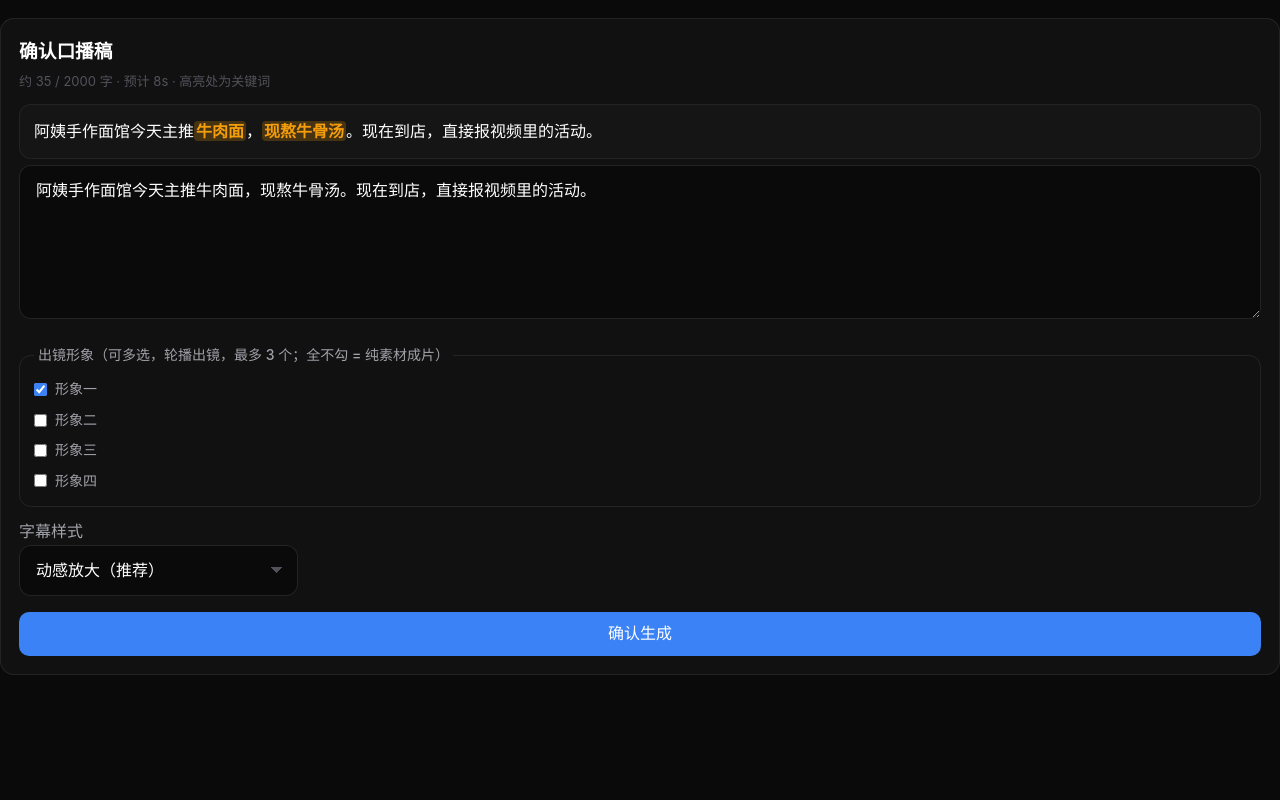
Test: ScriptConfirm › multiple avatars can be checked up to 3; the 4th checkbox stays disabled
Check: the checkbox labelled "形象一" is checked, box [34, 383, 47, 396]
Click the checkbox labelled "形象二" at (40, 420), box [34, 414, 47, 427]
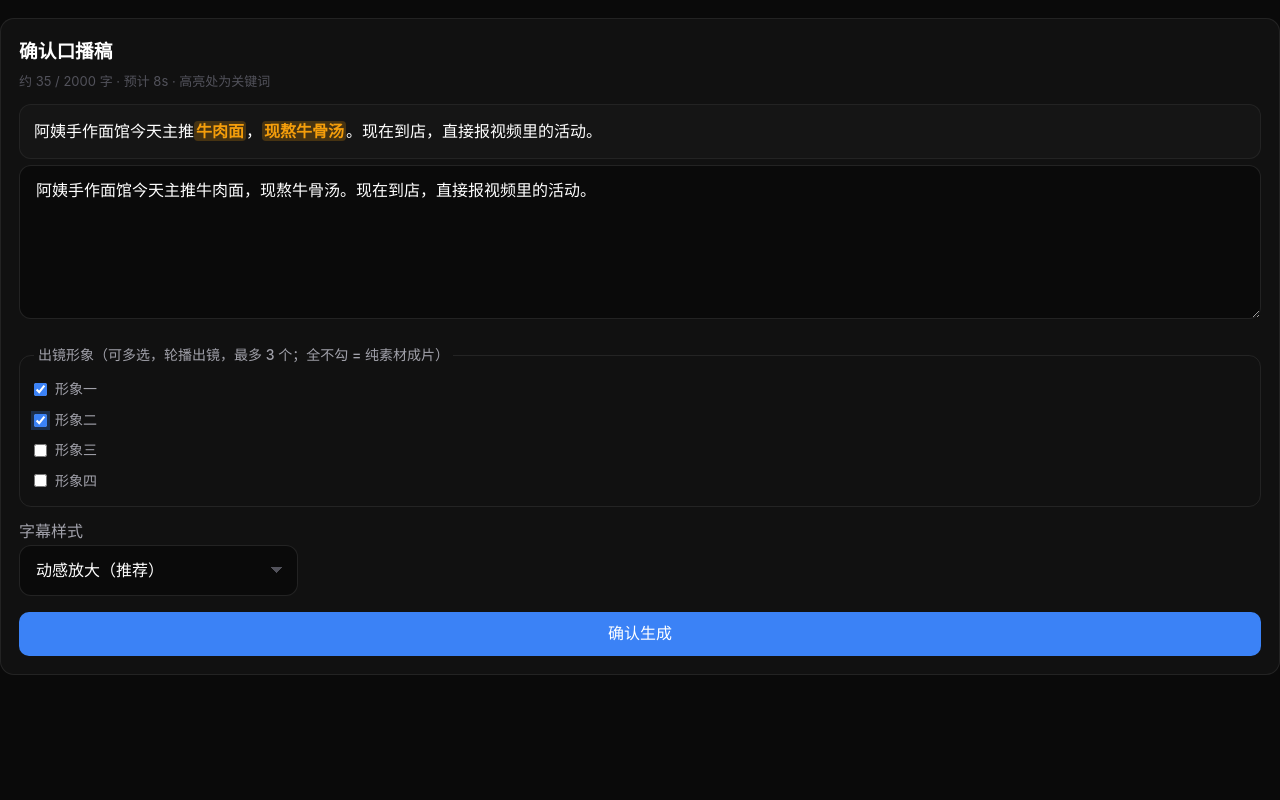
Click the checkbox labelled "形象三" at (40, 450), box [34, 444, 47, 457]
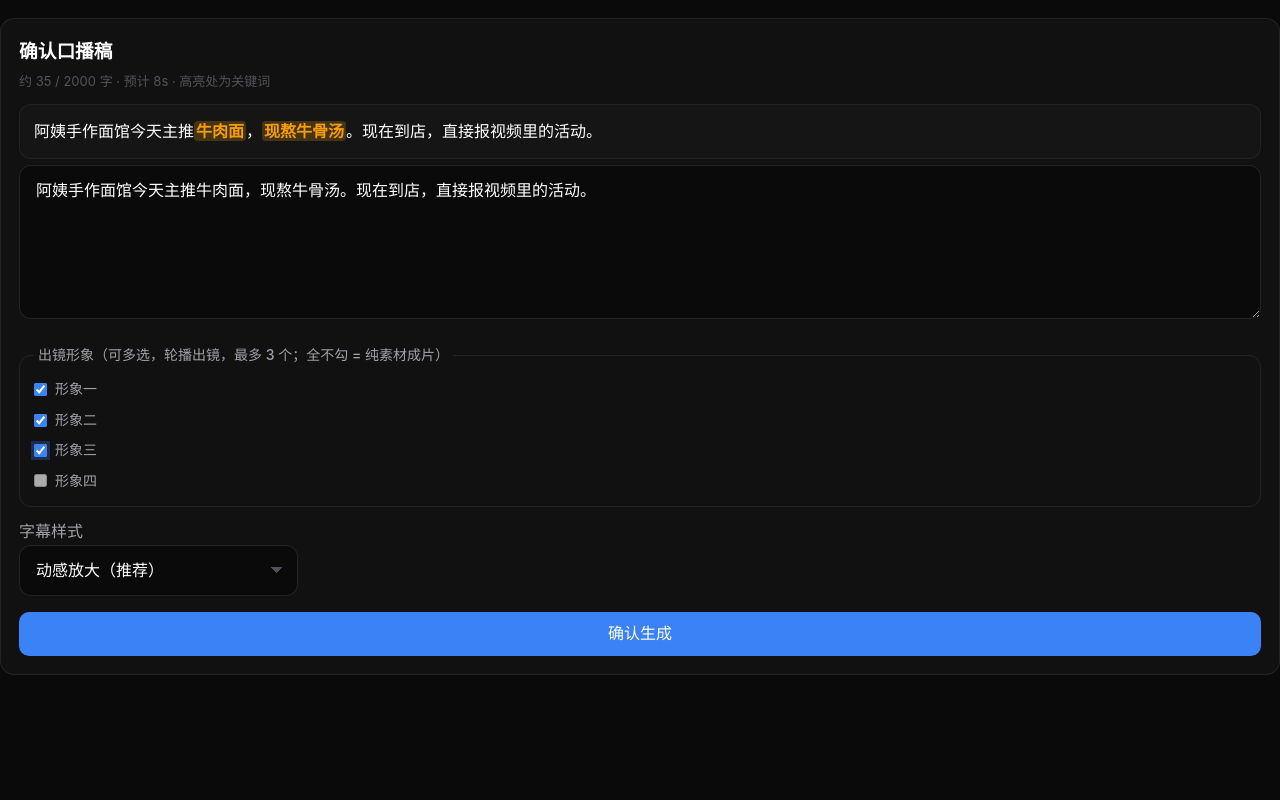
Check: the checkbox labelled "形象二" is checked, box [34, 414, 47, 427]
Check: the checkbox labelled "形象三" is checked, box [34, 444, 47, 457]
Check: the checkbox labelled "形象四" is disabled, box [34, 474, 47, 487]
